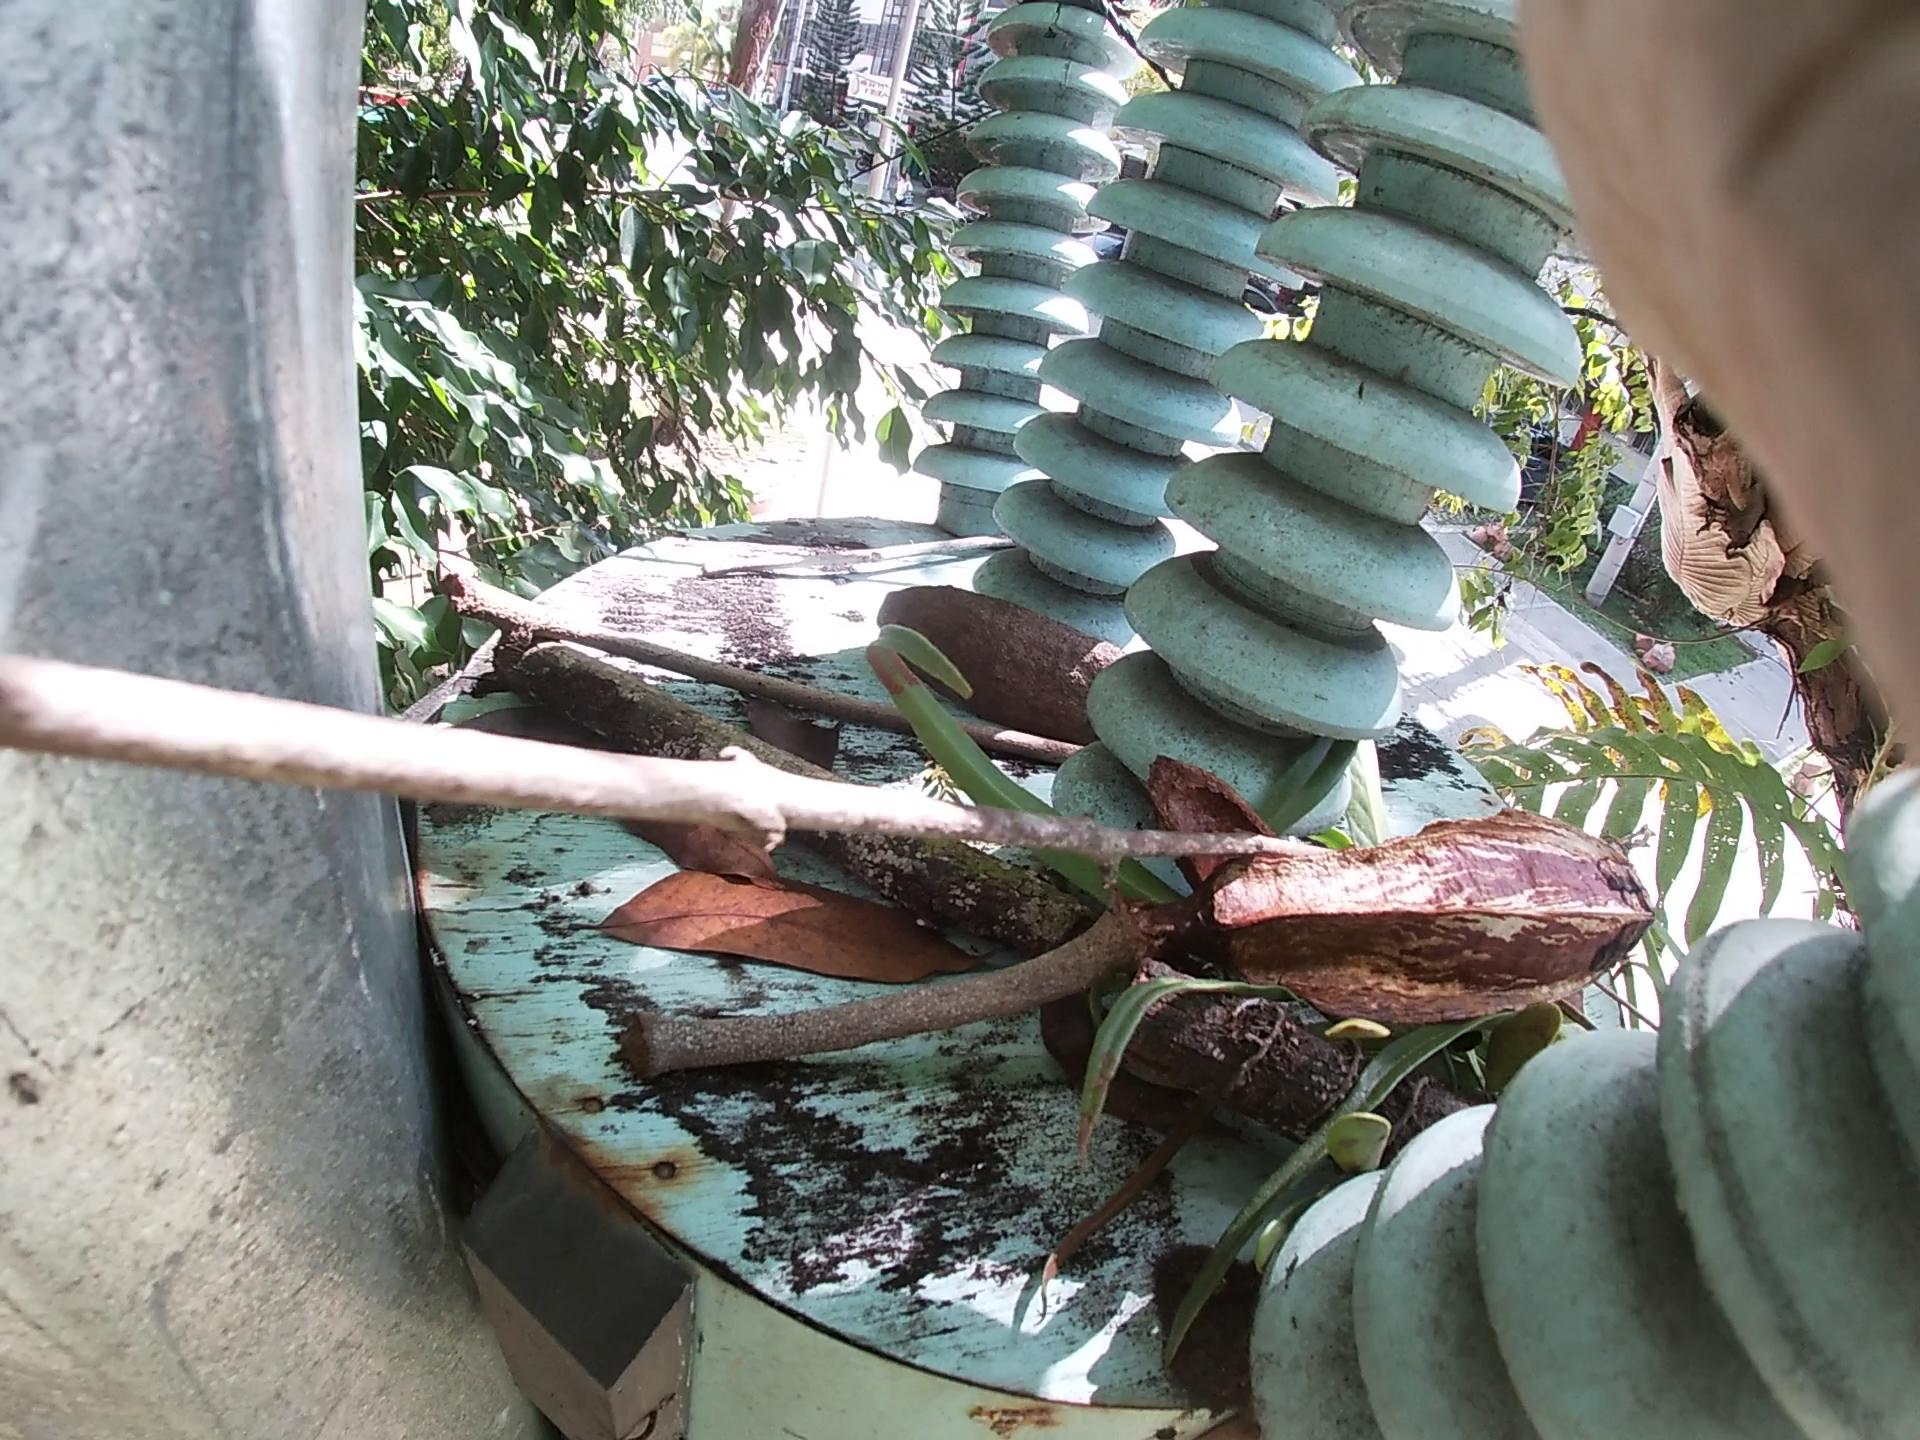branch with leaves: (528, 653, 1411, 1166)
leaf: (590, 793, 986, 1071)
mahogany fruit: (1179, 800, 1701, 1051), (872, 542, 1175, 800), (1092, 694, 1271, 891)
tree branch: (45, 675, 1332, 858), (513, 593, 1039, 755), (670, 902, 1128, 1044), (730, 523, 1070, 569)
